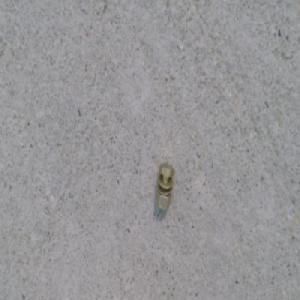BoltNutSet: (155, 165, 172, 212)
